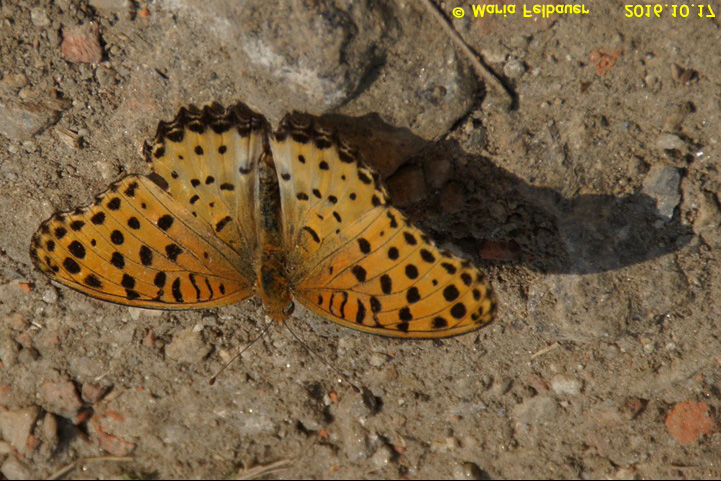Argyreus hyperbius: (25, 100, 502, 390)
butterfly: (27, 102, 504, 392)
